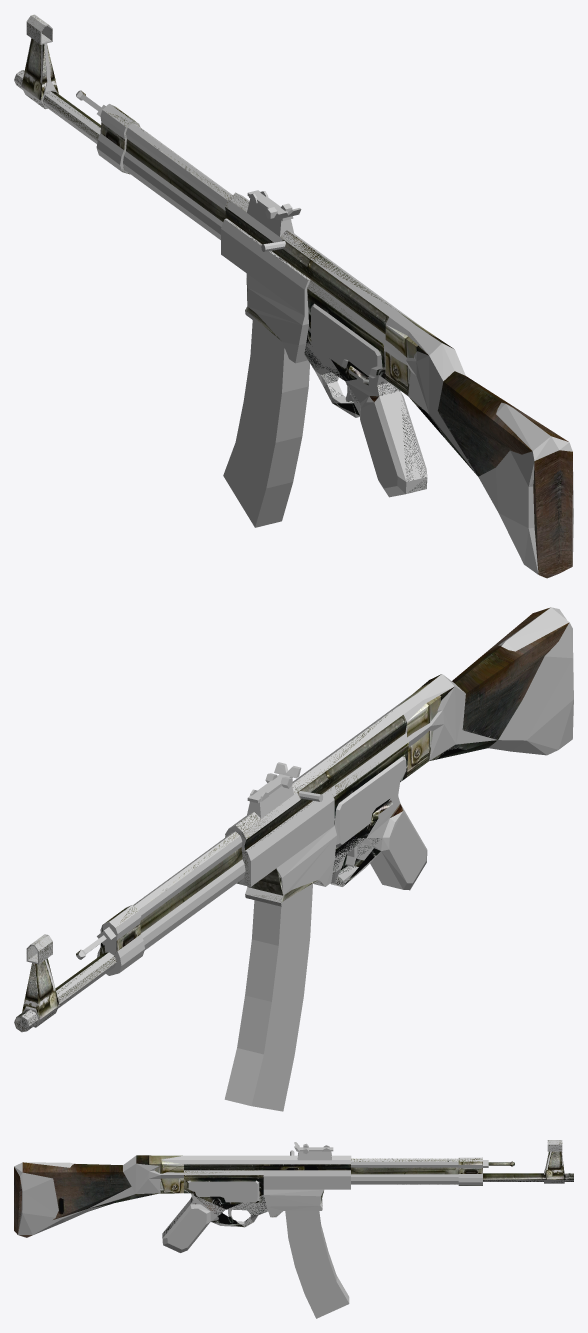
The model's file is stg44.obj.
The picture shows the model from 3 angles, top to bottom: view 1: azimuth 30°, elevation 25°; view 2: azimuth 150°, elevation 25°; view 3: azimuth 270°, elevation 25°; orthographic projection. The views are drawn at different scales.
Visible parts, largest first — view 1: Stg128, Stg8_Stg44.001, Mag8_Cube.001; view 2: Stg128, Stg8_Stg44.001, Mag8_Cube.001; view 3: Stg128, Stg8_Stg44.001, Mag8_Cube.001.
Part boxes in pixels (x1,y1,x2,y2): Stg128: (14,14,573,578); Stg8_Stg44.001: (15,15,572,577); Mag8_Cube.001: (223,320,309,527); Stg128: (14,607,573,1032); Stg8_Stg44.001: (14,607,568,1031); Mag8_Cube.001: (224,884,312,1111); Stg128: (14,1140,573,1252); Stg8_Stg44.001: (14,1140,573,1235); Mag8_Cube.001: (285,1211,349,1318).
Bounding box in the file's own units: 0.0528 × 0.3271 × 0.9477.
